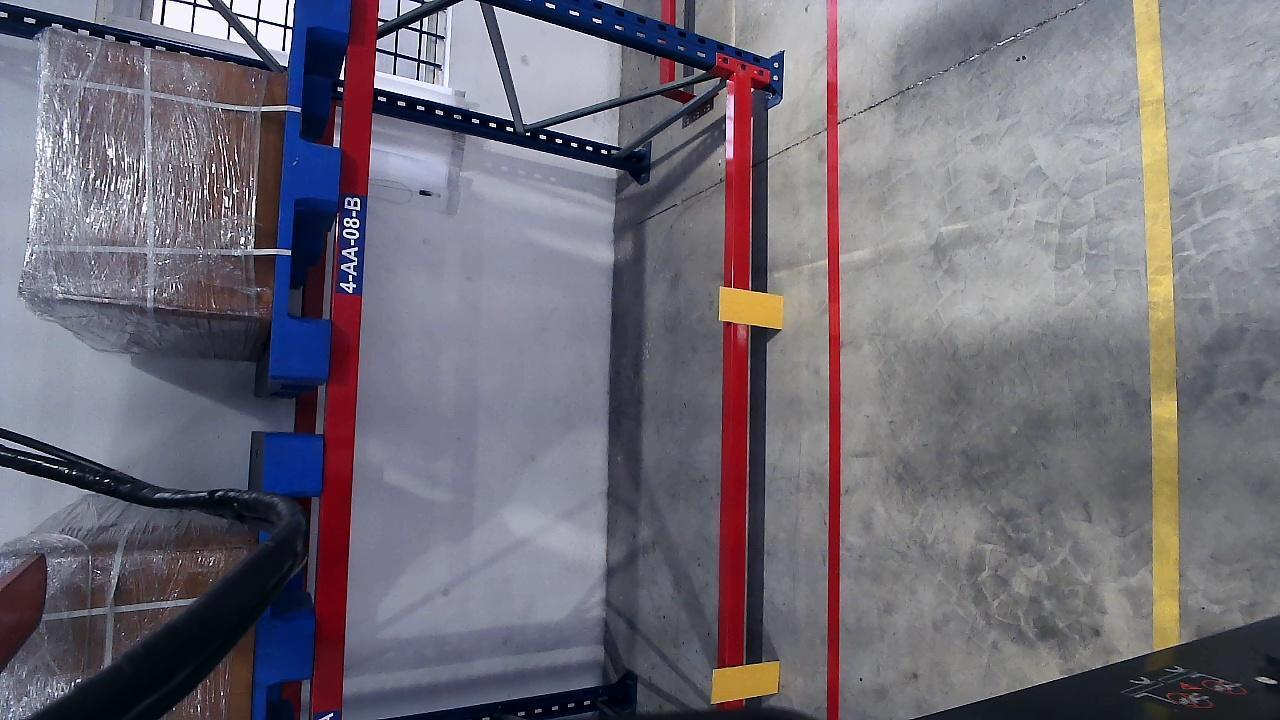red_line: (814, 1, 846, 712)
yellow_line: (1151, 0, 1182, 652)
